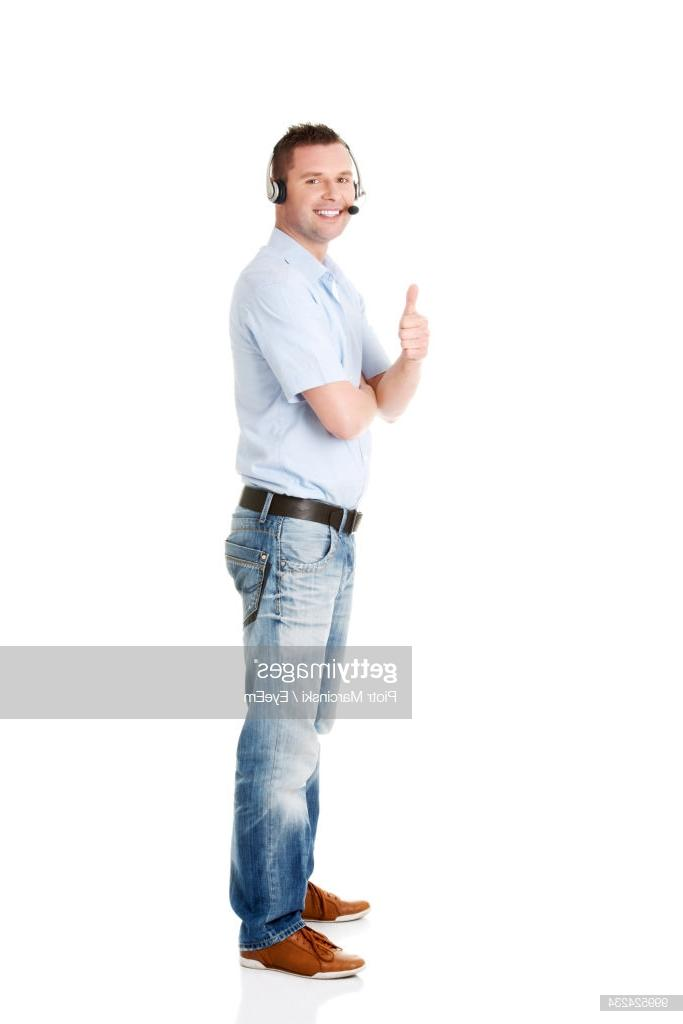thumbsup: (399, 284, 430, 361)
